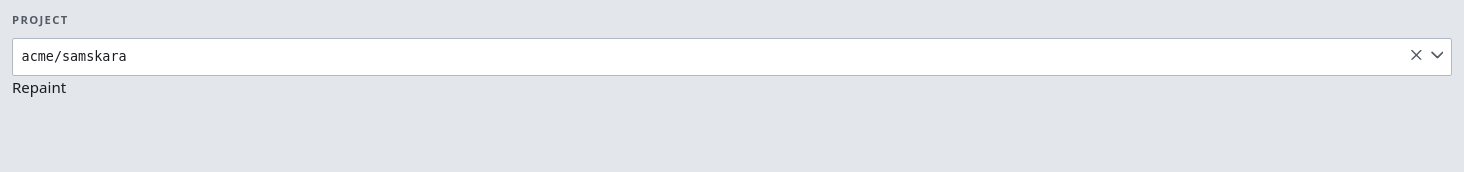
Test: SC60: text matching nothing leaves the filter alone and reverts when focus leaves
Click the dropdown labelled "Project": (732, 57) [12,38,1452,76]
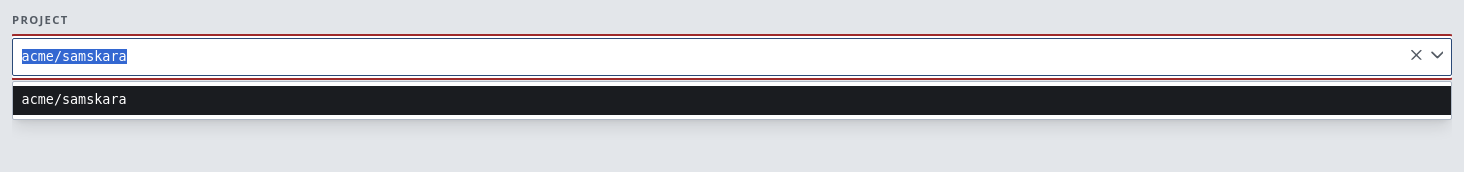
Type keys "zzz"
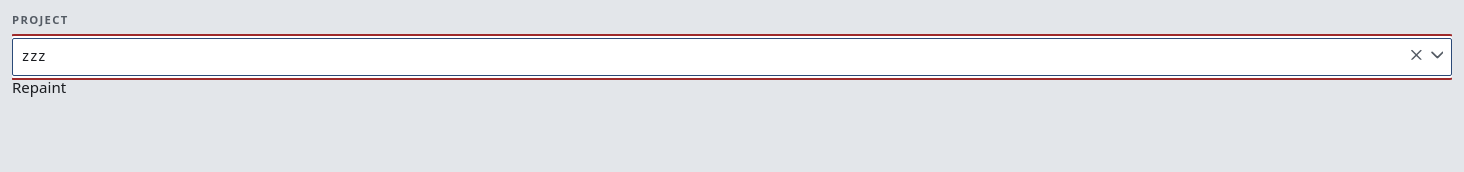
Press Tab
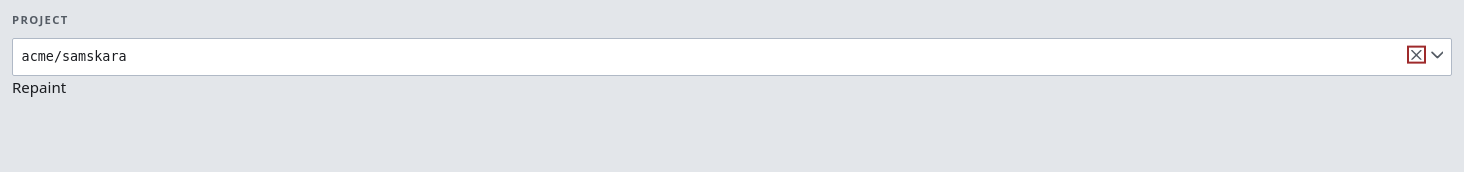
Now the dropdown labelled "Project" holds "acme/samskara", box [12,38,1452,76]
